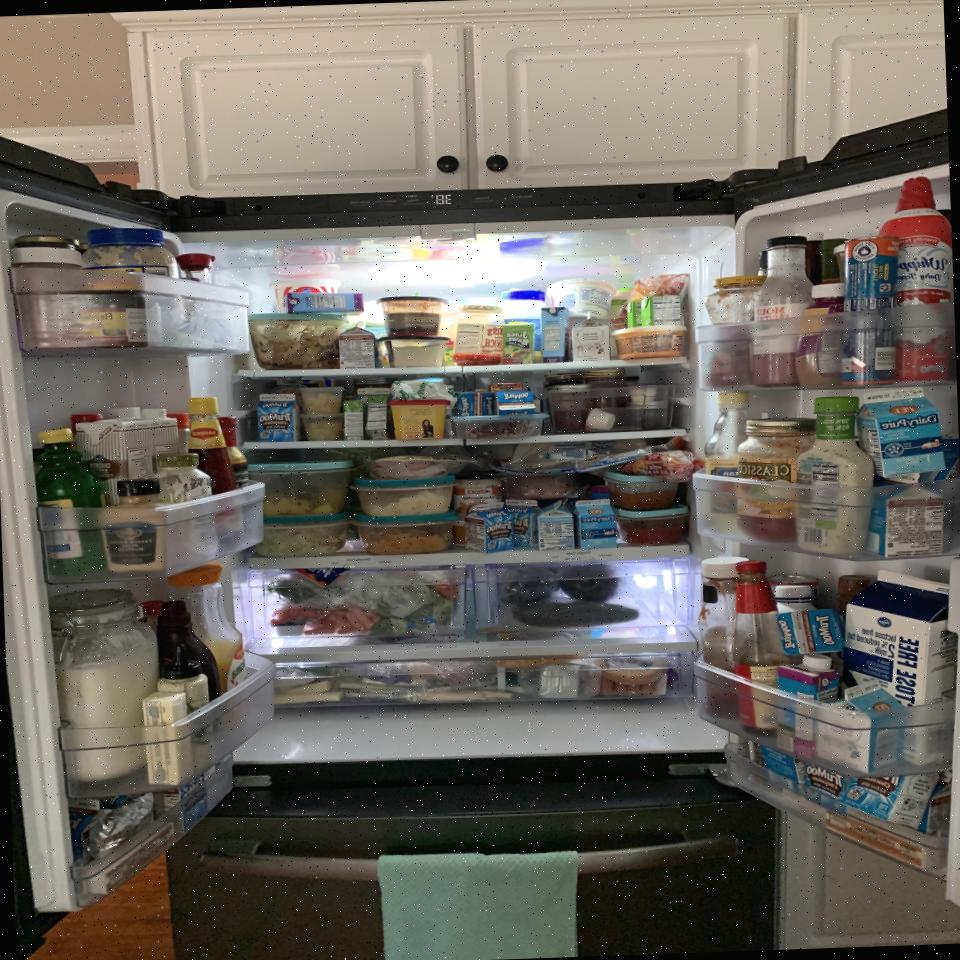Carne pollo: (508, 473, 576, 501)
Mantequilla: (142, 690, 190, 786)
Queso: (592, 652, 669, 686)
Yogur: (544, 277, 620, 331)
Zanahoria: (302, 606, 384, 636), (269, 604, 313, 626)
ketchup: (696, 556, 755, 720)
mayonnaise: (78, 226, 180, 280), (496, 290, 550, 364)
